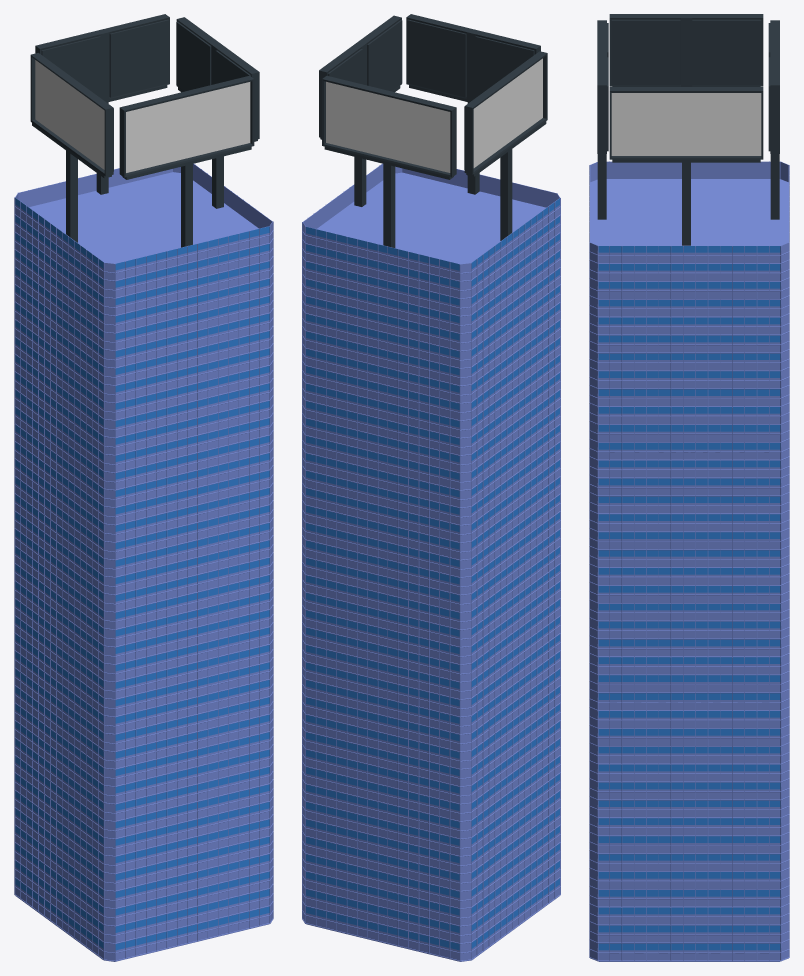
Rendered from Skyscraper with billboards.fbx.
3 renders of one model, left to right at view 1: azimuth 30°, elevation 25°; view 2: azimuth 150°, elevation 25°; view 3: azimuth 270°, elevation 25°, orthographic. The views are drawn at different scales.
Parts seen in each view (by area): view 1: Cube, Billboard.002, Billboard.003, Billboard.001, Billboard; view 2: Cube, Billboard.003, Billboard.002, Billboard.001, Billboard; view 3: Cube, Billboard, Billboard.001, Billboard.002, Billboard.003.
Boxes of the visible parts, x1,y1,x2,y2 form: Cube: (14,163,273,961); Billboard.002: (119,75,254,247); Billboard.003: (35,14,169,194); Billboard.001: (30,53,113,242); Billboard: (176,17,259,208); Cube: (302,163,560,961); Billboard.003: (322,76,456,247); Billboard.002: (406,14,540,194); Billboard.001: (464,51,547,240); Billboard: (319,15,402,206); Cube: (589,161,789,961); Billboard: (609,87,763,245); Billboard.001: (609,14,763,86); Billboard.002: (597,20,608,219); Billboard.003: (768,20,779,219).
Size of the model in its own units: 3278 by 15610 by 3273.
